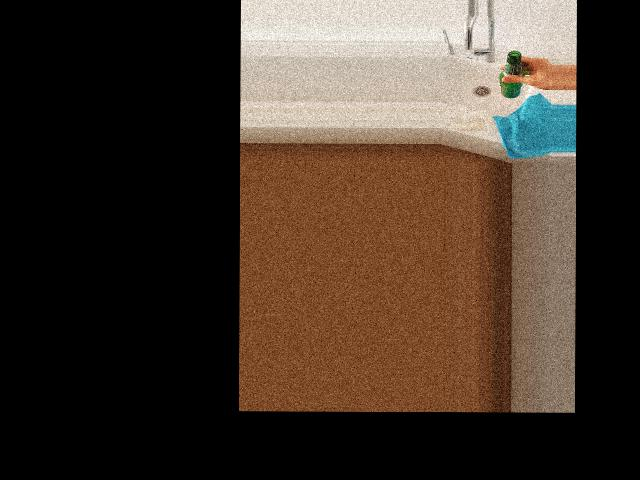beer: (499, 51, 524, 99)
